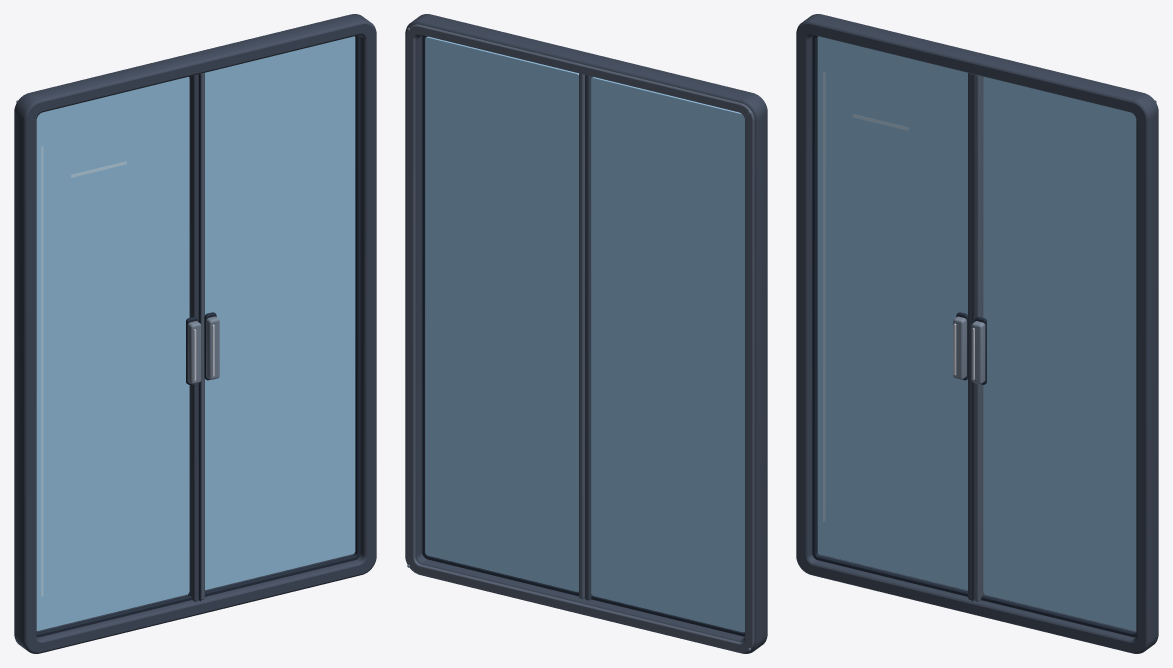
File: 05-nodeworks-glass-wall-left.glb
The picture shows the model from 3 angles, left to right: view 1: azimuth 30°, elevation 25°; view 2: azimuth 150°, elevation 25°; view 3: azimuth 330°, elevation 25°; orthographic projection.
Parts seen in each view (by area): view 1: left_transparent_glass, right_transparent_glass, outer_graphite_frame, inner_glazing_seal, center_left_meeting_stile, center_right_meeting_stile, center_joint_gasket, left_glass_reflection_glint, left_handle_body, right_handle_body; view 2: right_transparent_glass, left_transparent_glass, outer_graphite_frame, rear_perimeter_edge, center_left_meeting_stile, center_right_meeting_stile, inner_glazing_seal; view 3: right_transparent_glass, left_transparent_glass, outer_graphite_frame, inner_glazing_seal, center_right_meeting_stile, center_left_meeting_stile, center_joint_gasket, left_glass_reflection_glint, right_handle_body, left_handle_body.
Boxes of the visible parts, x1=… form: left_transparent_glass: x1=36, y1=77, x2=189, y2=631; right_transparent_glass: x1=205, y1=36, x2=355, y2=590; outer_graphite_frame: x1=14, y1=14, x2=376, y2=653; inner_glazing_seal: x1=36, y1=35, x2=360, y2=637; center_left_meeting_stile: x1=188, y1=74, x2=198, y2=601; center_right_meeting_stile: x1=198, y1=73, x2=204, y2=599; center_joint_gasket: x1=199, y1=74, x2=201, y2=601; left_glass_reflection_glint: x1=41, y1=146, x2=43, y2=596; left_handle_body: x1=187, y1=321, x2=201, y2=384; right_handle_body: x1=206, y1=316, x2=219, y2=379; right_transparent_glass: x1=425, y1=36, x2=578, y2=591; left_transparent_glass: x1=591, y1=77, x2=744, y2=632; outer_graphite_frame: x1=405, y1=14, x2=767, y2=653; rear_perimeter_edge: x1=406, y1=24, x2=754, y2=652; center_left_meeting_stile: x1=585, y1=75, x2=592, y2=600; center_right_meeting_stile: x1=579, y1=73, x2=584, y2=598; inner_glazing_seal: x1=422, y1=35, x2=744, y2=636; right_transparent_glass: x1=983, y1=77, x2=1136, y2=631; left_transparent_glass: x1=817, y1=36, x2=967, y2=590; outer_graphite_frame: x1=796, y1=14, x2=1158, y2=653; inner_glazing_seal: x1=812, y1=35, x2=1136, y2=637; center_right_meeting_stile: x1=974, y1=74, x2=984, y2=601; center_left_meeting_stile: x1=968, y1=73, x2=974, y2=599; center_joint_gasket: x1=971, y1=74, x2=973, y2=601; left_glass_reflection_glint: x1=823, y1=71, x2=825, y2=521; right_handle_body: x1=971, y1=321, x2=985, y2=384; left_handle_body: x1=953, y1=316, x2=966, y2=379.
Size of the model in its own units: 1.6 by 2.4 by 0.1485.
